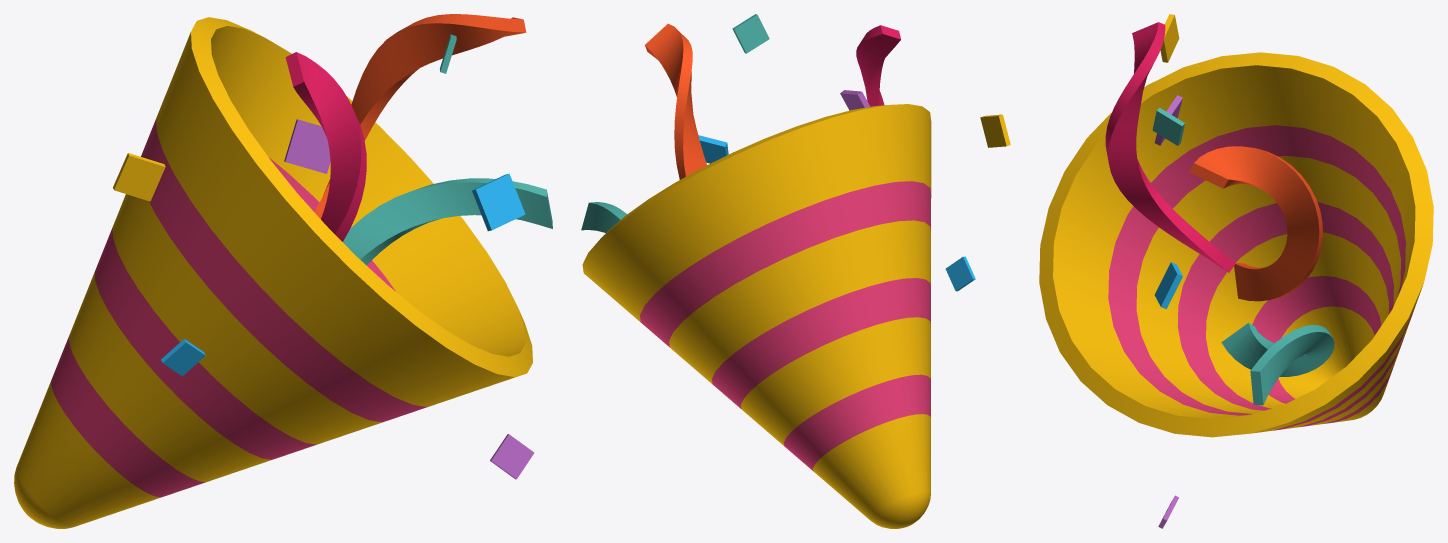
File: party_popper.glb
3 renders of one model, left to right at view 1: azimuth 30°, elevation 25°; view 2: azimuth 150°, elevation 25°; view 3: azimuth 270°, elevation 25°, orthographic. The views are drawn at different scales.
Visible parts, largest first — view 1: Cone.001, Plane.299, Plane.300, Plane.301, Cube.883, Cube.884, Cube.888, Cube.885, Cube.887; view 2: Cone.001, Plane.299, Plane.300, Plane.301, Cube.886, Cube.888, Cube.887, Cube.883; view 3: Cone.001, Plane.299, Plane.300, Plane.301, Cube.886, Cube.883, Cube.888.
Boxes of the visible parts, <box> form: Cone.001: <box>14,17,532,528</box>; Plane.299: <box>314,14,526,218</box>; Plane.300: <box>285,52,366,241</box>; Plane.301: <box>343,178,552,265</box>; Cube.883: <box>472,173,525,231</box>; Cube.884: <box>284,119,330,173</box>; Cube.888: <box>113,153,165,201</box>; Cube.885: <box>490,434,534,479</box>; Cube.887: <box>161,339,205,376</box>; Cone.001: <box>582,104,931,528</box>; Plane.299: <box>645,23,706,179</box>; Plane.300: <box>856,25,900,106</box>; Plane.301: <box>581,202,627,232</box>; Cube.886: <box>732,14,769,53</box>; Cube.888: <box>980,114,1010,147</box>; Cube.887: <box>945,256,975,291</box>; Cube.883: <box>698,135,728,163</box>; Cone.001: <box>1039,52,1433,437</box>; Plane.299: <box>1189,146,1322,301</box>; Plane.300: <box>1105,22,1235,272</box>; Plane.301: <box>1221,323,1334,405</box>; Cube.886: <box>1152,107,1184,145</box>; Cube.883: <box>1154,262,1182,309</box>; Cube.888: <box>1160,14,1179,62</box>.
Bounding box in the file's own units: 2.12 × 2.15 × 1.72.
1 material, 1 textured.
